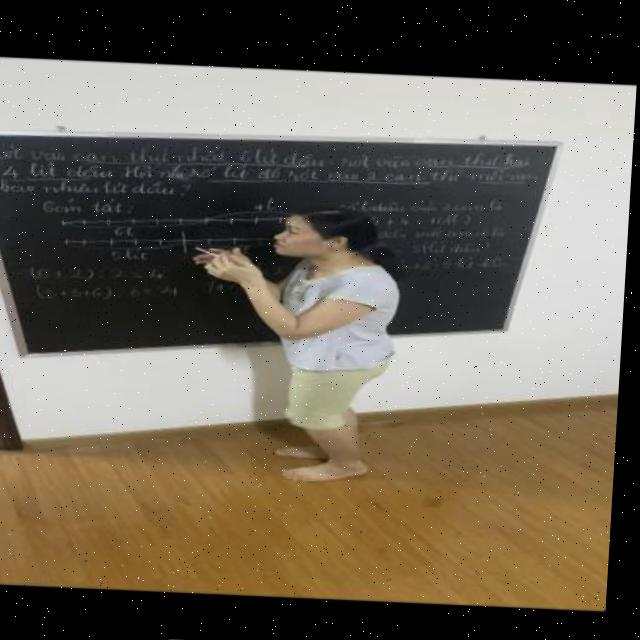cigarette: (196, 244, 223, 255)
